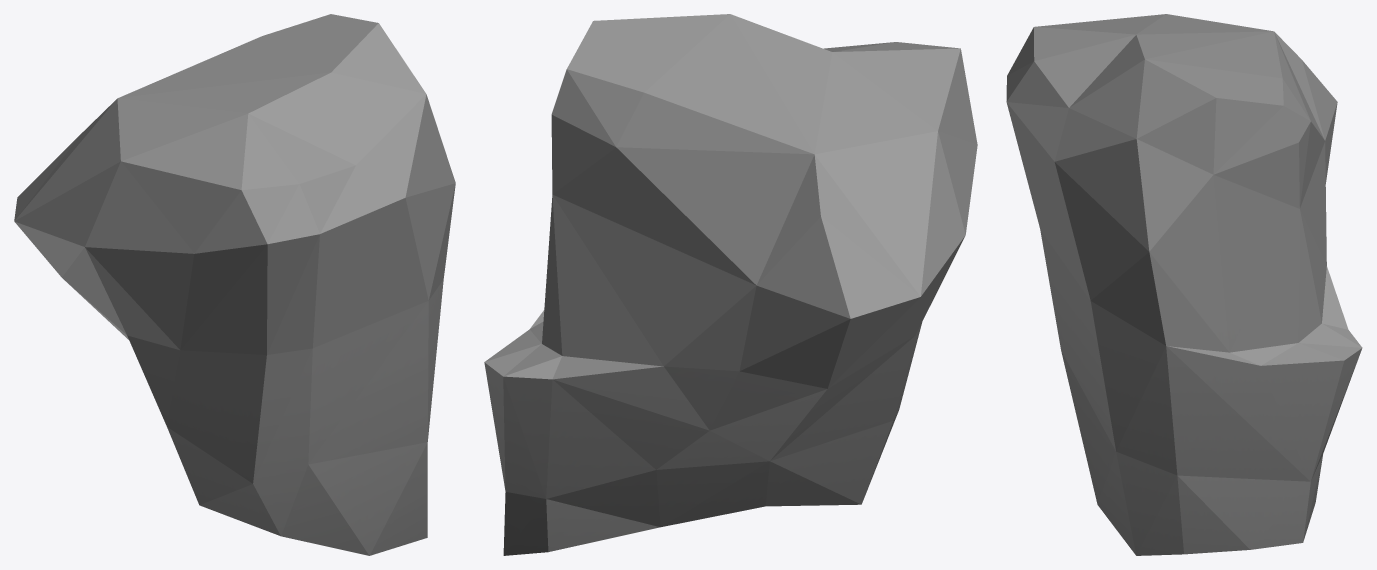
The model's file is Jungle_Boulder_B.fbx.
3 renders of one model, left to right at view 1: azimuth 30°, elevation 25°; view 2: azimuth 150°, elevation 25°; view 3: azimuth 270°, elevation 25°, orthographic. The views are drawn at different scales.
Visible parts, largest first — view 1: Jungle_Boulder_B; view 2: Jungle_Boulder_B; view 3: Jungle_Boulder_B.
Boxes of the visible parts, bbox=[...] form: Jungle_Boulder_B: bbox=[14, 14, 455, 555]; Jungle_Boulder_B: bbox=[484, 14, 977, 555]; Jungle_Boulder_B: bbox=[1006, 14, 1362, 555].
Bounding box in the file's own units: 3.45 × 4.31 × 3.05.
1 material, 1 textured.
